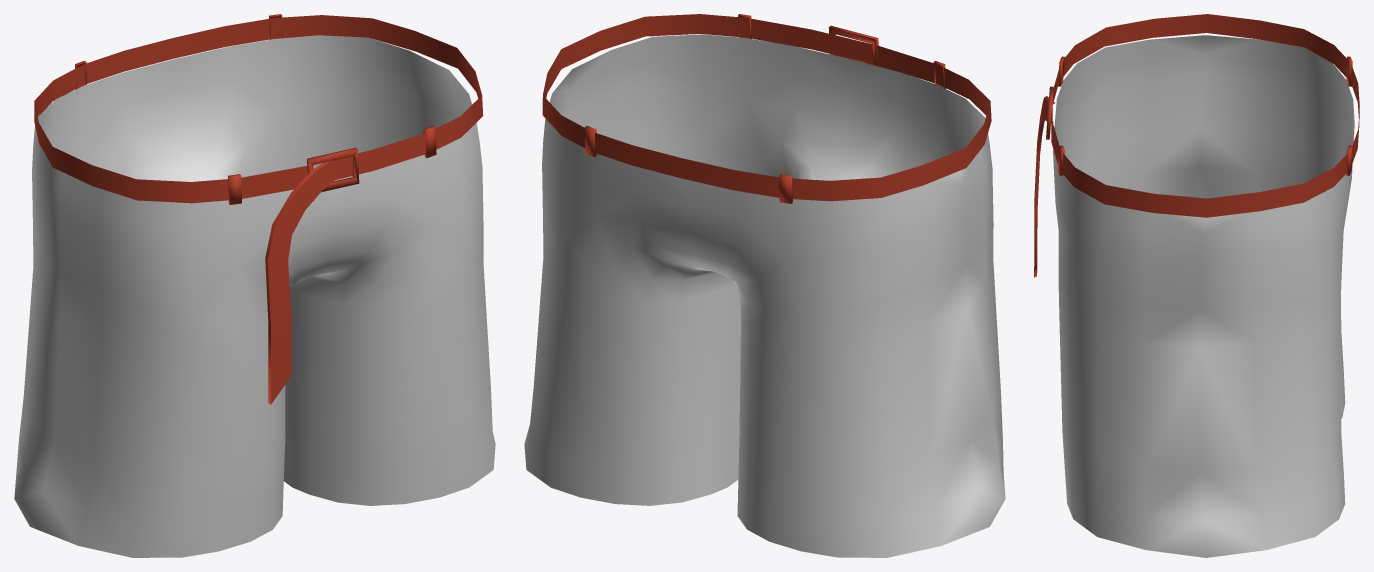
The picture shows the model from 3 angles, left to right: view 1: azimuth 30°, elevation 25°; view 2: azimuth 150°, elevation 25°; view 3: azimuth 270°, elevation 25°; orthographic projection. The views are drawn at different scales.
Visible parts, largest first — view 1: P_F; view 2: P_F; view 3: P_F.
Boxes of the visible parts, left/top/right/bottom form: P_F: left=14, top=14, right=495, bottom=557; P_F: left=524, top=14, right=1005, bottom=557; P_F: left=1034, top=14, right=1359, bottom=557.
Size of the model in its own units: 128 by 103 by 85.84.
